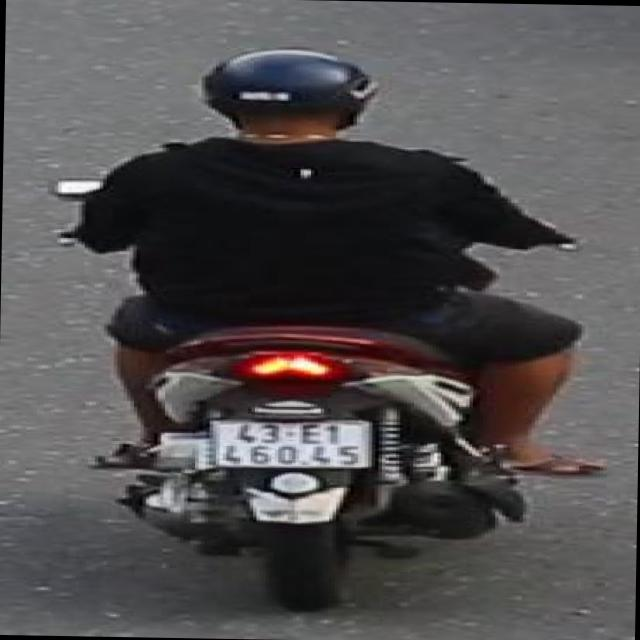LP: (207, 412, 377, 471)
helmet: (197, 42, 382, 152)
